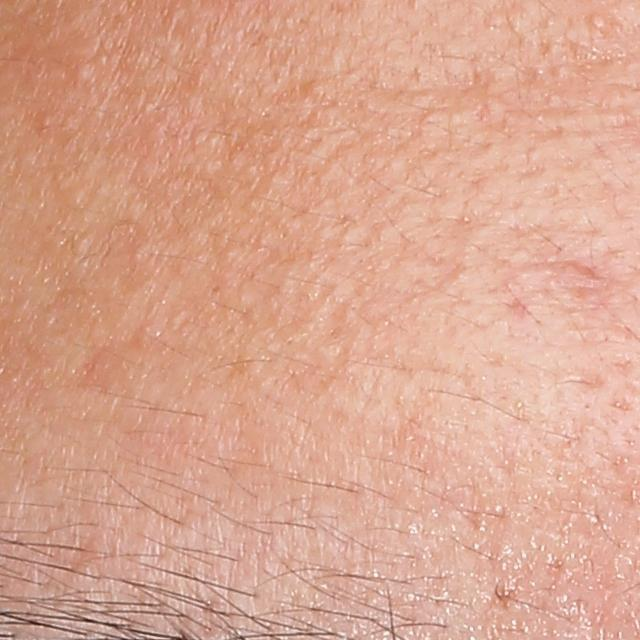comedo: (70, 59, 93, 86), (589, 11, 614, 30)
